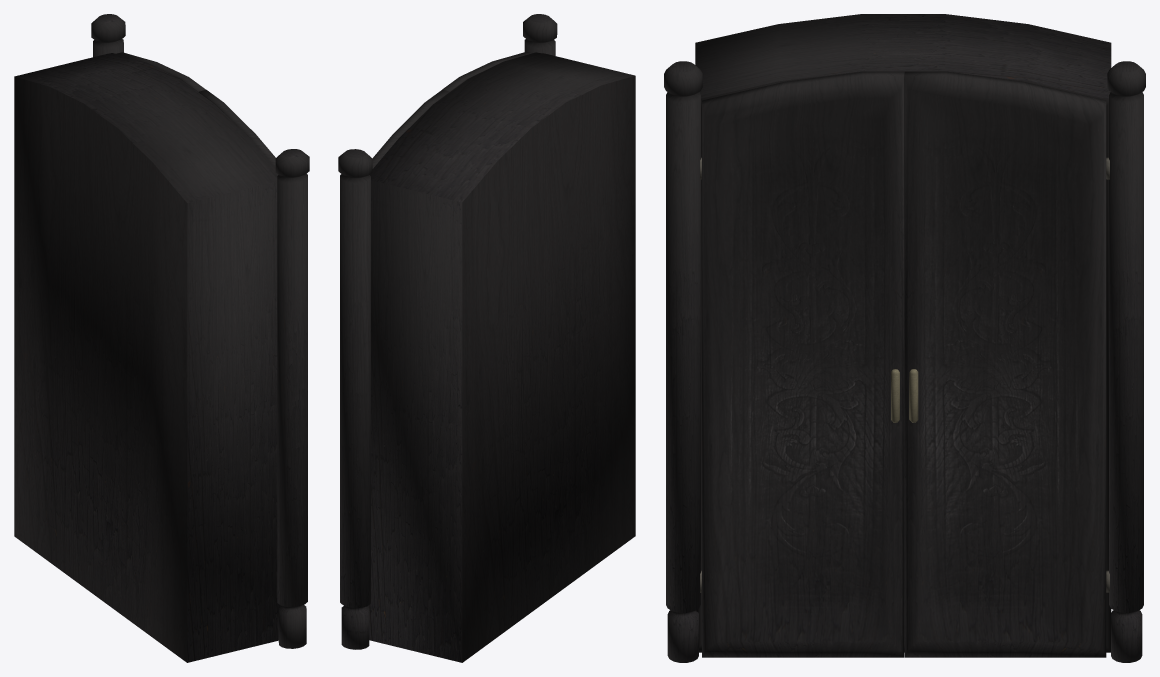
Rendered from FPH_Closet.fbx.
3 renders of one model, left to right at view 1: azimuth 30°, elevation 25°; view 2: azimuth 150°, elevation 25°; view 3: azimuth 270°, elevation 25°, orthographic. The views are drawn at different scales.
Parts seen in each view (by area): view 1: FPH_Closet, FPH_Closet_001, FPH_Closet_002; view 2: FPH_Closet, FPH_Closet_002, FPH_Closet_001; view 3: FPH_Closet_002, FPH_Closet_001, FPH_Closet.
Boxes of the visible parts, x1,y1,x2,y2 form: FPH_Closet: (14,14,309,662); FPH_Closet_001: (198,89,275,167); FPH_Closet_002: (116,52,205,91); FPH_Closet: (338,14,635,662); FPH_Closet_002: (372,89,449,168); FPH_Closet_001: (442,51,531,91); FPH_Closet_002: (904,71,1109,657); FPH_Closet_001: (700,71,904,657); FPH_Closet: (664,14,1145,662).
Bounding box in the file's own units: 3.09 × 11.7 × 8.67.
Materials: 1 (1 with a texture image).
